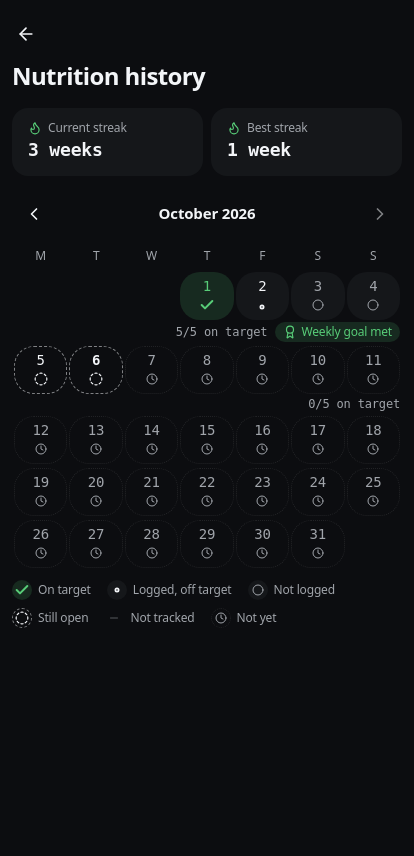
HistoryScreen › goes back month by month to the first period and no further
Expected: the button named "1 October: On target" is shown, [180,272,234,320]
Expected: the button named "Next month" is disabled, [358,192,402,236]
Click the button named "Previous month": [34, 214] box [12,192,56,236]
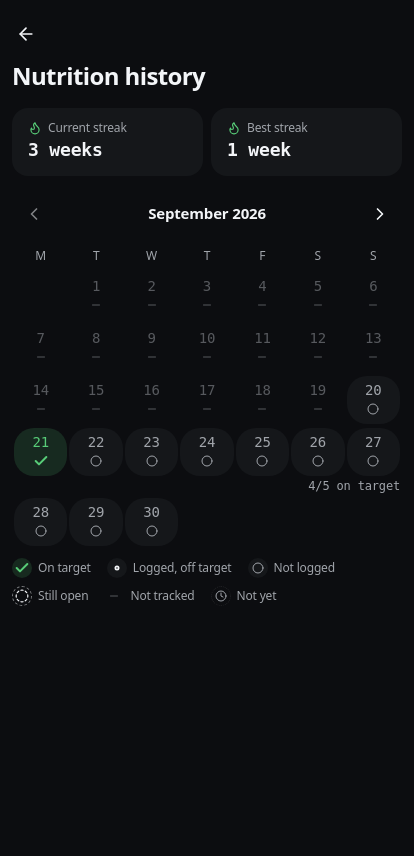
Expected: the button named "21 September: On target" is shown, [14,428,67,476]
Result: the heading "September 2026" is shown at [148,203,266,223]
Result: the picture named "19 September: Not tracked" is shown at [310,382,326,415]
